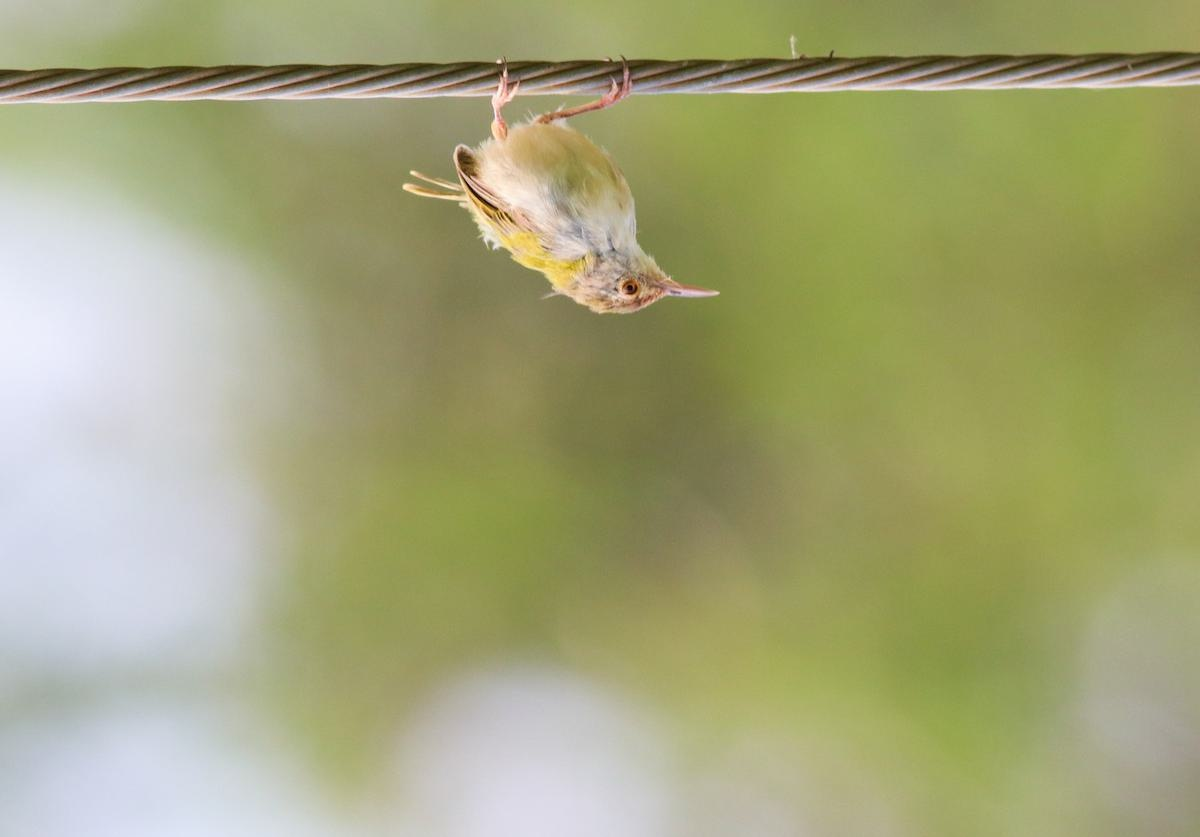tailorbird: (375, 76, 756, 378)
